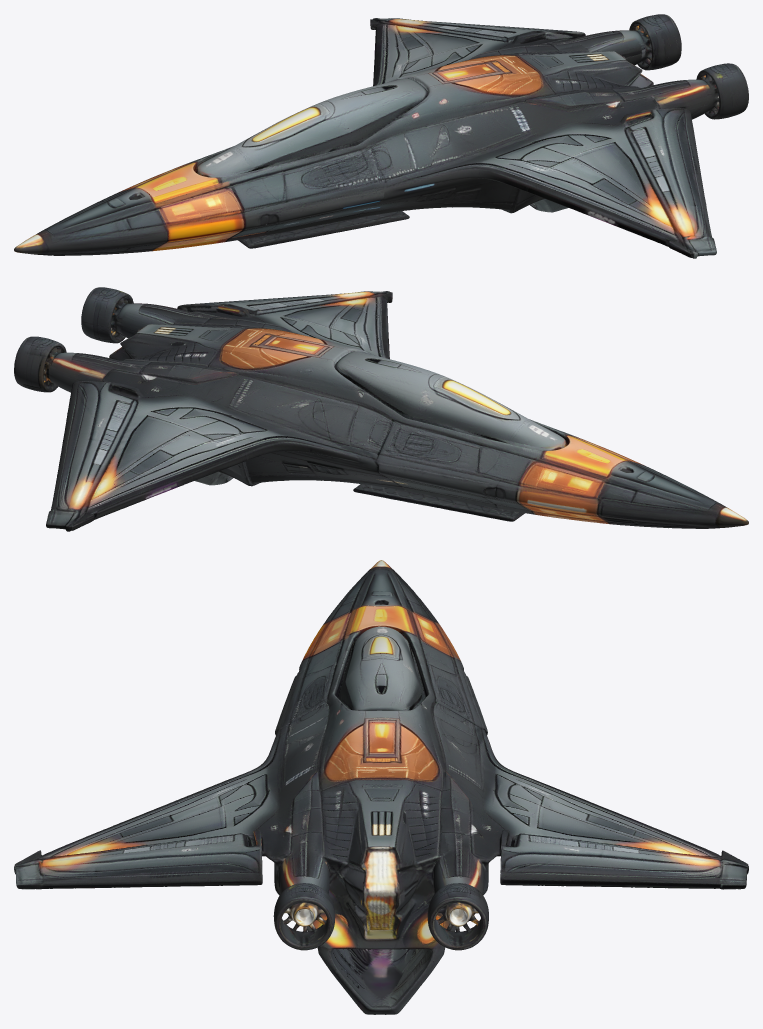
Rendered from HumanFriendlStarFighter.glb.
The picture shows the model from 3 angles, top to bottom: view 1: azimuth 30°, elevation 25°; view 2: azimuth 150°, elevation 25°; view 3: azimuth 270°, elevation 25°; orthographic projection. The views are drawn at different scales.
Bounding box in the file's own units: 1.9 × 0.4211 × 1.53.
Materials: 1 (1 with a texture image).
